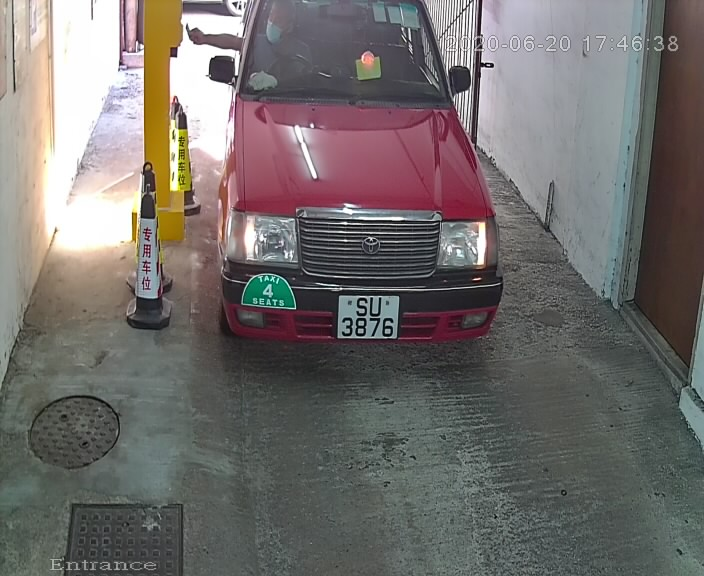taxi: (193, 1, 538, 398)
taxi_mark: (239, 266, 295, 329)
